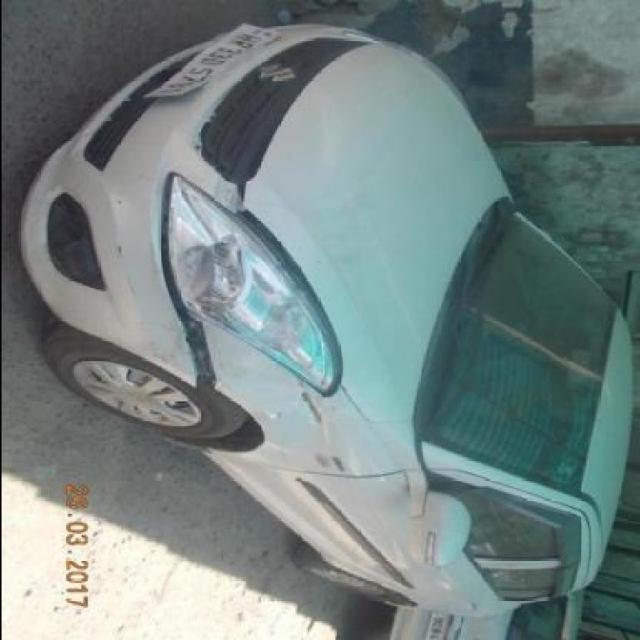damage: (158, 168, 214, 393), (217, 177, 259, 222), (290, 378, 322, 427)
